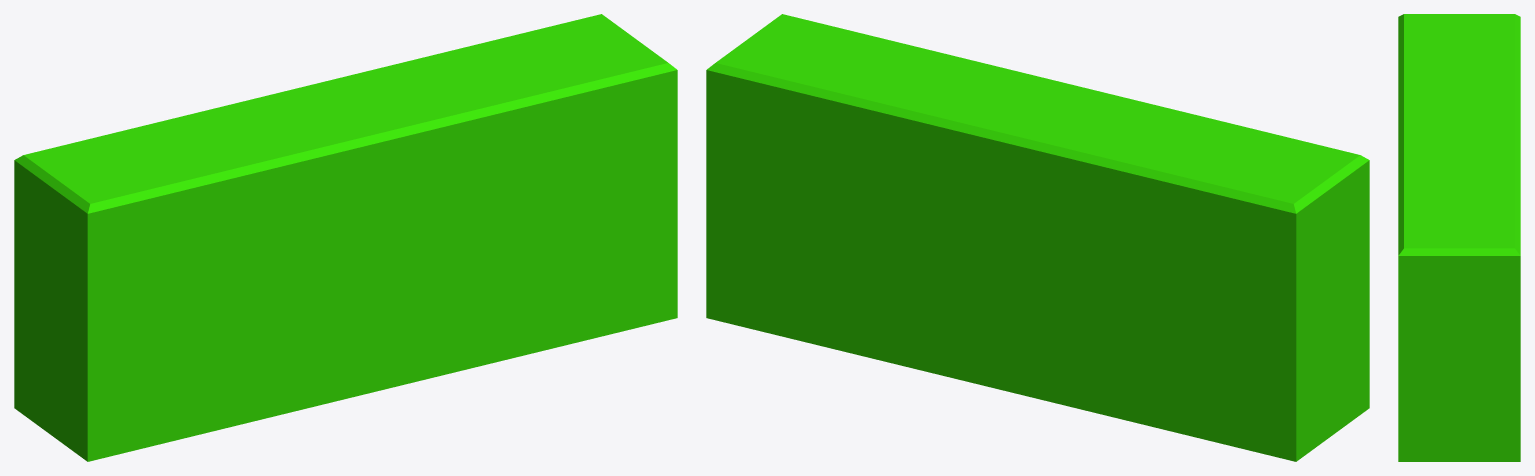
File: basic_5x2.fbx
3 renders of one model, left to right at view 1: azimuth 30°, elevation 25°; view 2: azimuth 150°, elevation 25°; view 3: azimuth 270°, elevation 25°, orthographic. The views are drawn at different scales.
Parts seen in each view (by area): view 1: basic_5x2; view 2: basic_5x2; view 3: basic_5x2.
Part boxes in pixels (x1,y1,x2,y2): basic_5x2: (14, 14, 677, 461); basic_5x2: (706, 14, 1369, 461); basic_5x2: (1398, 14, 1520, 461).
Size of the model in its own units: 510 by 210 by 110.
